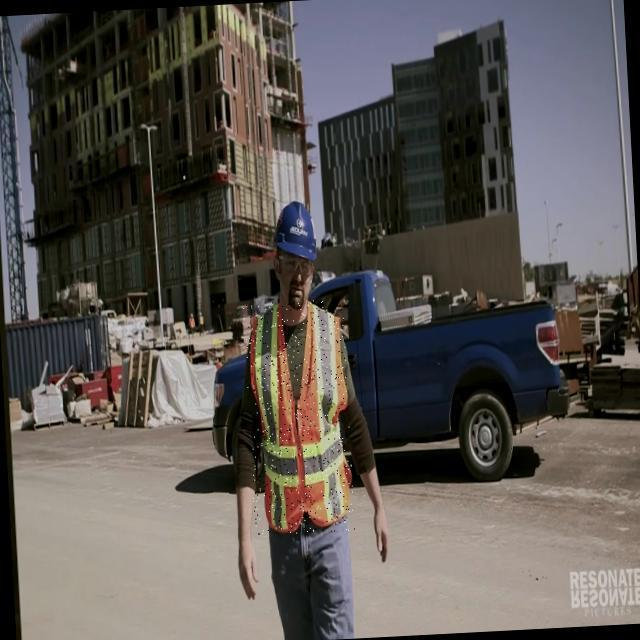helmet: (265, 193, 325, 272)
vest: (243, 299, 355, 535)
